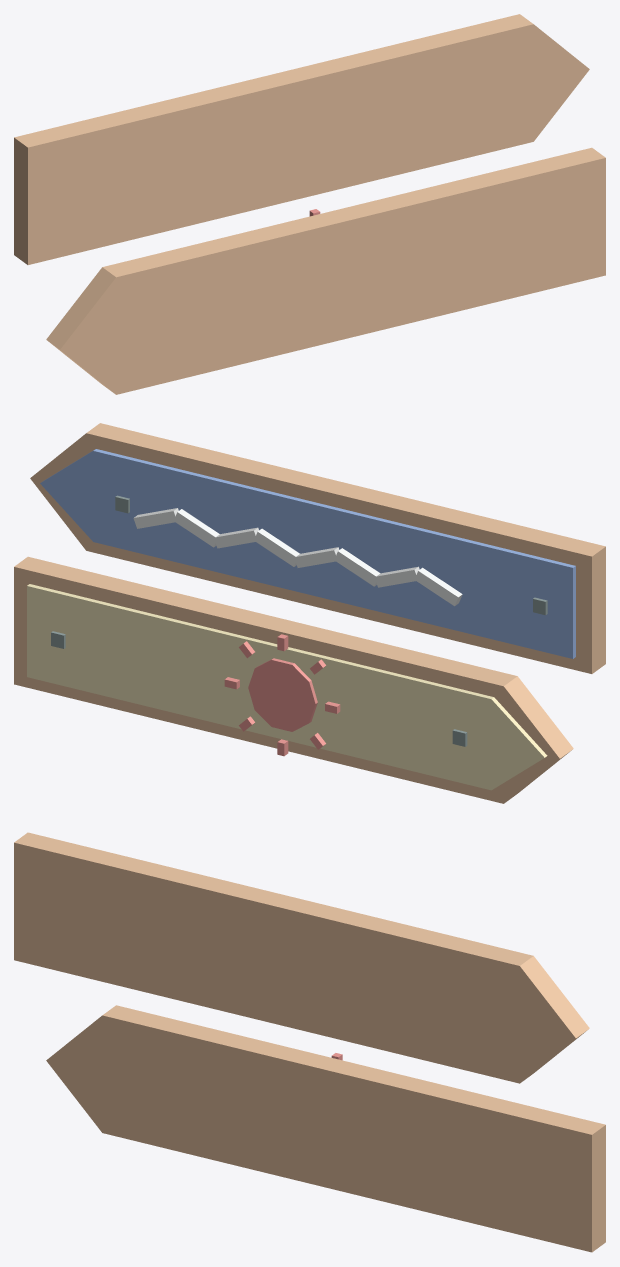
The model's file is beach_sign.glb.
3 views of the same model, one above another, from view 1: azimuth 30°, elevation 25°; view 2: azimuth 150°, elevation 25°; view 3: azimuth 330°, elevation 25° (orthographic).
Visible parts, largest first — view 1: BeachSign; view 2: BeachSign; view 3: BeachSign.
Part boxes in pixels (x1,y1,x2,y2): BeachSign: [14, 14, 605, 394]; BeachSign: [14, 423, 605, 803]; BeachSign: [14, 832, 605, 1252].
Size of the model in its own units: 0.8182 by 0.3636 by 0.0515.
